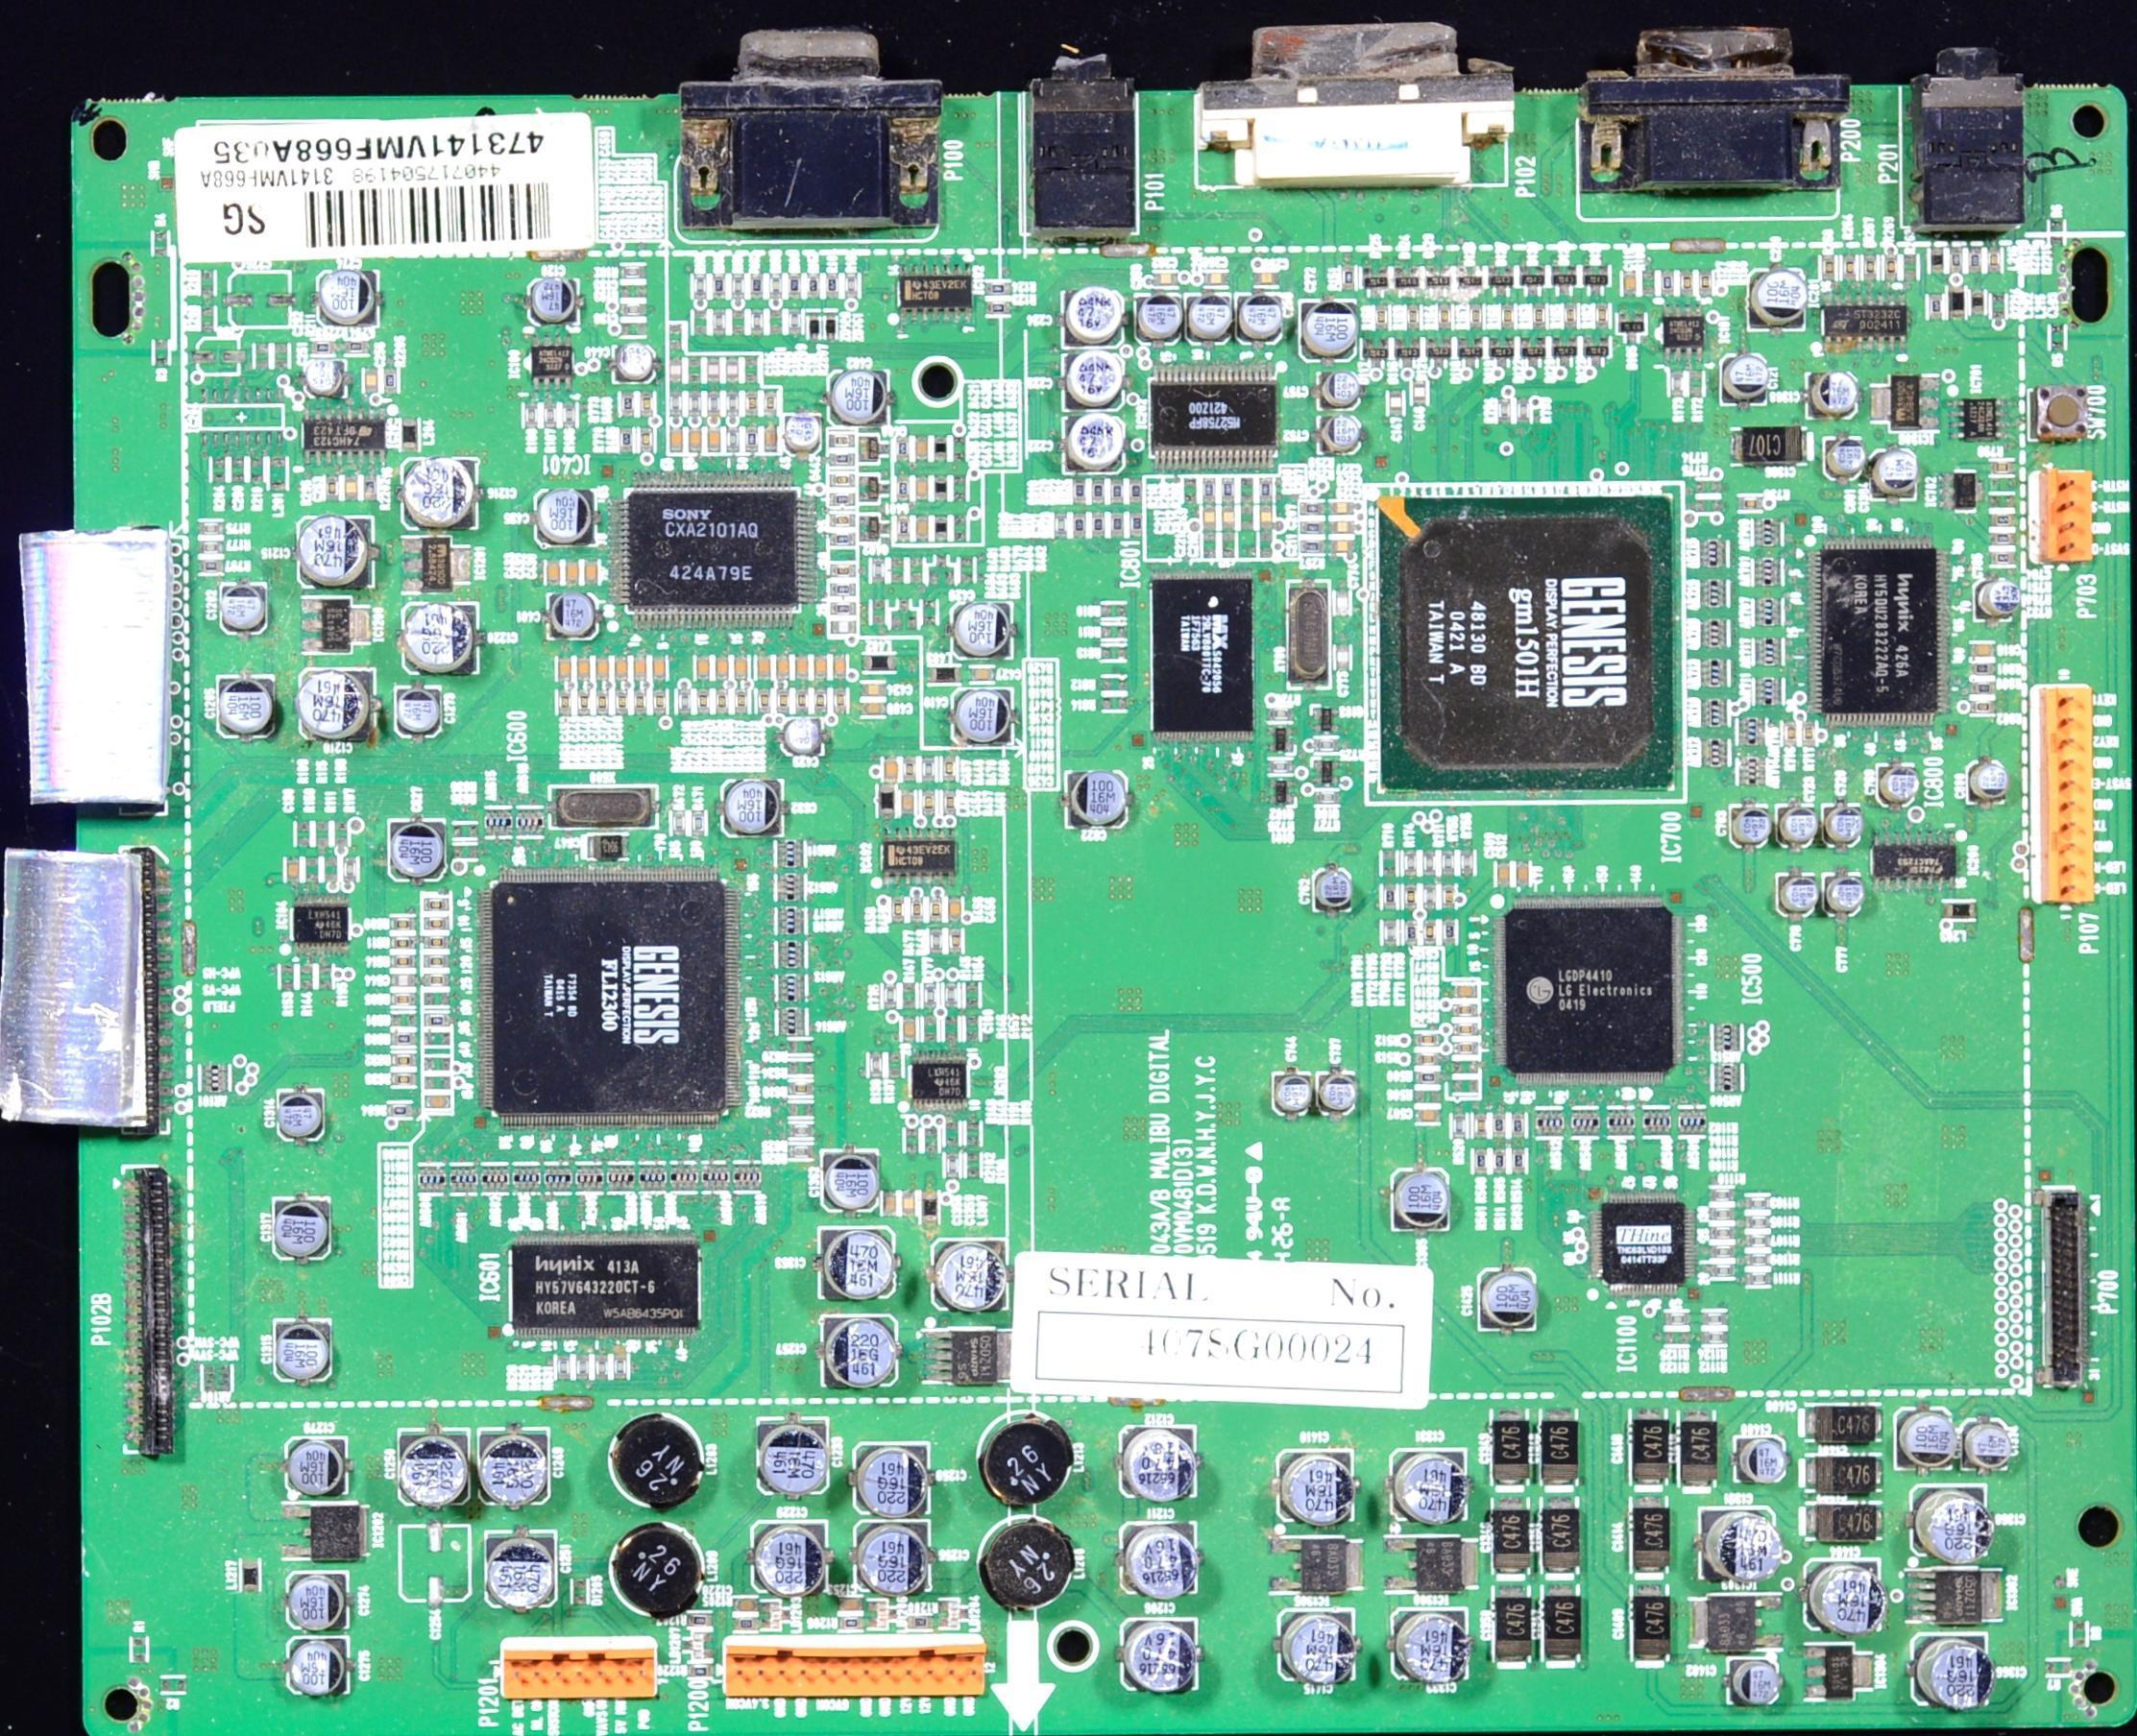Capacitor: (1802, 1501, 1883, 1543), (1799, 1404, 1882, 1443), (1800, 1455, 1882, 1493), (1542, 1585, 1582, 1660), (1633, 1584, 1671, 1660), (1541, 1499, 1580, 1572), (1680, 1411, 1718, 1485), (1493, 1409, 1530, 1484), (1541, 1409, 1577, 1483), (1731, 428, 1808, 465), (1632, 1411, 1668, 1484), (1634, 1497, 1669, 1570), (1493, 1500, 1529, 1573), (1495, 1587, 1530, 1662), (582, 835, 630, 858), (225, 293, 294, 304), (194, 350, 245, 363), (734, 1596, 759, 1614), (900, 790, 914, 819), (883, 1192, 898, 1217), (1335, 591, 1349, 615), (425, 1096, 451, 1108), (620, 285, 646, 300), (839, 1596, 863, 1611), (546, 562, 561, 585), (695, 656, 710, 679), (883, 758, 899, 781), (391, 975, 416, 988), (255, 346, 270, 370), (1416, 1110, 1442, 1122), (903, 1193, 917, 1216), (1154, 273, 1178, 286), (622, 323, 644, 336), (744, 358, 758, 381), (1390, 391, 1403, 415), (707, 428, 720, 452), (915, 477, 930, 500), (1330, 502, 1353, 515), (1223, 505, 1236, 528), (916, 517, 930, 541), (1971, 643, 1994, 657), (970, 667, 993, 682), (1254, 274, 1279, 285), (732, 310, 743, 334), (1414, 380, 1427, 405), (1241, 505, 1253, 529), (1329, 520, 1353, 533), (1329, 540, 1353, 552), (1260, 533, 1272, 558), (831, 621, 856, 635), (1336, 645, 1348, 669), (862, 684, 886, 696), (775, 657, 789, 678), (757, 658, 770, 679), (1453, 984, 1476, 998), (903, 1019, 916, 1042), (1993, 294, 2005, 318), (770, 310, 783, 333), (693, 311, 706, 334), (275, 345, 287, 369), (687, 358, 700, 381), (690, 429, 702, 451), (915, 437, 929, 461), (346, 477, 358, 499), (1991, 496, 2014, 508), (1223, 534, 1235, 557), (585, 561, 597, 584), (615, 657, 627, 680), (716, 658, 729, 680), (559, 658, 571, 681), (577, 658, 590, 681), (862, 702, 885, 714), (287, 858, 300, 881), (1497, 862, 1510, 885), (948, 898, 960, 922), (1624, 273, 1637, 295), (670, 428, 682, 450), (765, 428, 776, 450), (1203, 508, 1216, 530), (1204, 535, 1217, 557), (833, 656, 845, 676), (795, 656, 809, 677), (736, 656, 748, 677), (634, 658, 646, 679), (596, 658, 609, 679), (653, 659, 666, 680), (1517, 862, 1529, 884), (232, 458, 243, 482), (814, 657, 828, 677), (1204, 273, 1226, 284), (670, 325, 681, 348), (367, 371, 377, 392), (567, 561, 578, 582), (1261, 507, 1271, 525)
Connector: (680, 7, 951, 235), (1192, 20, 1519, 180), (1599, 20, 1827, 197), (1906, 39, 2024, 238), (1029, 39, 1143, 235), (723, 1635, 984, 1697), (2029, 686, 2093, 907), (501, 1639, 658, 1699), (2029, 465, 2095, 564)
IC: (1364, 484, 1688, 803), (478, 866, 741, 1128), (1494, 893, 1683, 1085), (610, 471, 818, 629), (1809, 537, 1952, 726), (1151, 569, 1254, 740), (1141, 356, 1292, 466), (1590, 1193, 1698, 1295), (1904, 1564, 2005, 1627), (1688, 1591, 1785, 1651), (1270, 1535, 1364, 1596), (1386, 1535, 1478, 1594), (1872, 831, 1956, 891), (1822, 294, 1908, 351), (303, 407, 385, 467), (880, 828, 958, 884), (900, 263, 975, 322), (1805, 1643, 1877, 1701), (303, 597, 375, 655), (401, 536, 475, 591), (1867, 375, 1939, 431), (292, 895, 351, 951), (913, 1051, 968, 1110), (1946, 398, 2009, 442), (530, 337, 573, 389), (1664, 303, 1703, 363), (1940, 470, 1983, 511)
Resistor: (921, 790, 938, 814), (423, 1012, 451, 1026), (422, 1030, 452, 1046), (424, 1055, 450, 1072), (2046, 1659, 2074, 1676), (1437, 303, 1452, 329), (919, 758, 937, 781), (423, 993, 449, 1006), (423, 935, 449, 950), (687, 1612, 713, 1627), (838, 1614, 863, 1630), (910, 1615, 934, 1631), (689, 1663, 714, 1679), (895, 439, 911, 465), (280, 964, 294, 990), (828, 433, 855, 446), (1073, 479, 1086, 504), (1267, 708, 1293, 720), (901, 758, 917, 780), (735, 1616, 759, 1631), (945, 983, 959, 1007), (885, 983, 898, 1008), (888, 1052, 902, 1077), (923, 1129, 937, 1153), (1512, 1149, 1525, 1174), (966, 1153, 981, 1178), (1711, 1189, 1735, 1202), (1746, 1216, 1771, 1229), (1710, 1226, 1735, 1240), (1698, 271, 1712, 297), (623, 303, 648, 318), (708, 391, 721, 416), (524, 403, 538, 428), (829, 452, 855, 466), (211, 458, 226, 484), (954, 518, 967, 542), (959, 558, 973, 583), (1102, 605, 1128, 617), (614, 690, 627, 716), (942, 759, 958, 783), (425, 1077, 451, 1089), (769, 274, 782, 299), (829, 474, 856, 487), (829, 494, 856, 507), (911, 558, 923, 585), (833, 687, 845, 713), (695, 687, 708, 713), (1268, 759, 1293, 773), (1314, 791, 1340, 804), (424, 898, 449, 911), (300, 966, 314, 988), (320, 966, 332, 989), (902, 984, 915, 1007), (789, 1039, 812, 1051), (392, 1052, 415, 1066), (789, 1123, 813, 1137), (945, 1121, 959, 1145), (906, 1129, 919, 1152), (1821, 256, 1835, 280), (1904, 257, 1917, 280), (987, 282, 1010, 296), (1595, 303, 1609, 326), (1468, 305, 1481, 328), (1111, 480, 1125, 503), (1697, 498, 1721, 512), (1074, 514, 1087, 537), (897, 518, 911, 541), (831, 603, 855, 616), (757, 691, 770, 713), (940, 792, 956, 815), (334, 824, 350, 847), (1461, 852, 1474, 875), (325, 858, 338, 881), (910, 898, 923, 921), (1384, 921, 1397, 944), (966, 983, 979, 1007), (392, 1014, 417, 1025), (1417, 1052, 1441, 1065), (869, 1052, 883, 1077), (1417, 1072, 1441, 1084), (1418, 1091, 1442, 1104), (1474, 1113, 1487, 1137), (967, 1121, 981, 1145), (1711, 1208, 1735, 1220), (1746, 1235, 1771, 1247), (2073, 1621, 2086, 1645), (1969, 249, 1981, 273), (1342, 266, 1354, 291), (1680, 271, 1692, 297), (789, 274, 801, 298), (751, 275, 765, 299), (789, 309, 802, 335), (751, 310, 764, 335), (1670, 372, 1683, 397), (1689, 373, 1702, 397), (621, 392, 635, 416), (1498, 399, 1512, 423), (1697, 481, 1722, 494), (1259, 478, 1272, 503), (1129, 479, 1142, 503), (1091, 480, 1105, 504), (829, 514, 855, 526), (199, 522, 224, 535), (1990, 532, 2015, 543), (830, 533, 855, 545), (201, 541, 225, 553), (201, 560, 225, 571), (831, 564, 856, 576), (872, 559, 885, 583), (831, 584, 856, 597), (1103, 625, 1128, 638), (1103, 646, 1127, 659), (777, 689, 789, 713), (735, 690, 748, 715), (1785, 721, 1797, 745), (1383, 851, 1396, 876), (1403, 852, 1416, 877), (393, 993, 415, 1005), (1111, 514, 1125, 536), (924, 984, 935, 1008), (966, 1018, 978, 1041), (945, 1019, 957, 1042), (1454, 1025, 1478, 1036), (393, 1032, 416, 1045), (1454, 1042, 1477, 1053), (393, 1072, 416, 1084), (789, 1082, 814, 1095), (390, 1104, 412, 1116), (789, 1104, 813, 1116), (1493, 1115, 1506, 1137), (789, 1145, 813, 1159), (1493, 1150, 1505, 1172), (946, 1154, 959, 1178), (1746, 1196, 1769, 1209), (1711, 1245, 1734, 1258), (1712, 1265, 1736, 1277), (1747, 1272, 1770, 1285), (1665, 1314, 1689, 1326), (1704, 1330, 1727, 1343), (1666, 1332, 1689, 1344), (1950, 250, 1962, 273), (1863, 256, 1877, 279), (1842, 256, 1855, 280), (1642, 271, 1656, 294), (1662, 272, 1674, 295), (807, 274, 819, 297), (827, 274, 839, 297), (1533, 305, 1545, 328), (1375, 305, 1387, 328), (346, 341, 369, 352), (708, 359, 719, 382), (764, 391, 776, 415), (746, 392, 758, 415), (640, 392, 652, 415), (669, 394, 683, 417), (689, 393, 702, 417), (544, 403, 556, 426), (563, 404, 575, 427), (620, 428, 632, 452), (640, 428, 652, 451), (953, 438, 966, 460), (252, 459, 263, 482), (327, 477, 339, 500), (1222, 478, 1233, 502), (1129, 513, 1142, 536), (1055, 514, 1067, 537), (892, 559, 905, 582), (924, 600, 936, 623), (1973, 682, 1996, 694), (716, 689, 728, 712), (653, 690, 666, 714), (679, 690, 691, 714), (559, 690, 571, 714), (795, 690, 809, 714), (595, 690, 607, 714), (1103, 698, 1126, 711), (1316, 739, 1340, 751), (454, 825, 477, 837), (298, 822, 309, 845), (454, 846, 477, 858), (1443, 850, 1454, 874), (343, 858, 355, 881), (1443, 885, 1454, 908), (1384, 885, 1396, 909), (930, 898, 942, 922), (892, 899, 905, 921), (425, 918, 449, 929), (391, 918, 414, 929), (1423, 919, 1435, 943), (930, 929, 942, 953), (949, 929, 961, 952), (424, 955, 449, 966), (788, 1061, 814, 1073), (1738, 497, 1765, 509), (873, 599, 885, 625), (315, 822, 327, 848), (393, 955, 415, 967), (923, 1018, 936, 1040), (1884, 256, 1897, 278), (693, 275, 705, 297), (986, 301, 1008, 313), (726, 359, 739, 381), (384, 368, 396, 393), (726, 393, 739, 415), (1990, 462, 2014, 473), (365, 474, 376, 500), (898, 476, 910, 501), (955, 477, 966, 502), (1185, 479, 1197, 503), (1990, 514, 2015, 525), (1093, 514, 1106, 536), (1300, 522, 1325, 534), (1301, 541, 1325, 551), (1971, 663, 1996, 675), (578, 689, 589, 713), (673, 811, 686, 832), (692, 811, 705, 833), (306, 857, 318, 882), (1422, 885, 1436, 907), (1444, 920, 1454, 944), (391, 937, 416, 948), (1453, 1004, 1476, 1016), (1416, 1034, 1439, 1046), (1513, 1113, 1524, 1135), (1454, 1115, 1466, 1137), (1747, 1254, 1771, 1266), (1703, 1313, 1726, 1324), (1988, 250, 2000, 273), (621, 267, 645, 278), (733, 276, 743, 299), (1565, 303, 1576, 325), (1502, 305, 1513, 327), (1406, 304, 1418, 328), (714, 311, 725, 334), (2052, 325, 2063, 349), (671, 358, 682, 380), (1518, 398, 1530, 422), (1203, 478, 1214, 501), (1300, 503, 1323, 514), (1104, 678, 1127, 689), (634, 691, 645, 714), (1803, 722, 1813, 745), (1422, 851, 1434, 874), (1405, 885, 1417, 909), (1405, 920, 1417, 943), (423, 974, 448, 983), (1455, 1061, 1476, 1073), (1454, 1080, 1476, 1092), (1475, 1149, 1486, 1171), (715, 275, 725, 296), (313, 343, 335, 354), (1242, 478, 1252, 499), (1991, 552, 2012, 564), (814, 692, 826, 714), (1972, 701, 1994, 712), (846, 275, 857, 297)
Transistor: (887, 597, 919, 629), (856, 435, 890, 466), (859, 473, 889, 506), (926, 555, 957, 586), (1549, 266, 1579, 297), (1361, 267, 1392, 298), (858, 514, 888, 544), (1518, 266, 1546, 298), (1425, 268, 1452, 299), (1488, 266, 1515, 300), (1582, 267, 1611, 298), (1454, 267, 1484, 298), (1618, 313, 1646, 343), (1582, 338, 1612, 367), (1424, 340, 1455, 369), (1362, 340, 1391, 370), (1395, 340, 1422, 370), (1312, 707, 1341, 735), (1456, 340, 1485, 368), (1519, 340, 1546, 368), (1489, 342, 1517, 370), (1396, 268, 1421, 299), (1547, 340, 1576, 367), (1313, 759, 1341, 787), (1269, 780, 1295, 804), (1268, 728, 1295, 752)
